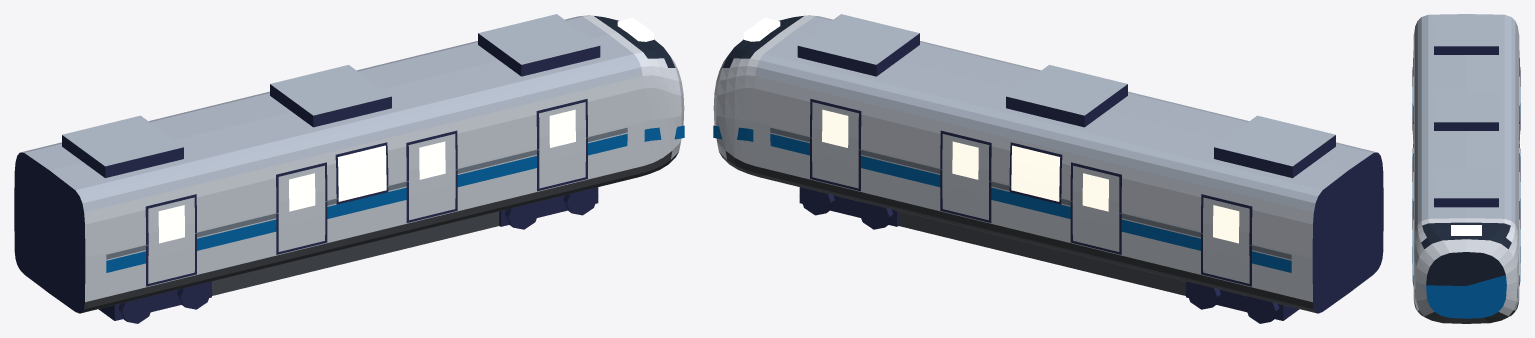
File: taipei-mrt-c381.glb
3 renders of one model, left to right at view 1: azimuth 30°, elevation 25°; view 2: azimuth 150°, elevation 25°; view 3: azimuth 270°, elevation 25°, orthographic. The views are drawn at different scales.
Parts seen in each view (by area): view 1: taipei-mrt-c381_root; view 2: taipei-mrt-c381_root; view 3: taipei-mrt-c381_root.
Part boxes in pixels (x1,y1,x2,y2): taipei-mrt-c381_root: [14, 14, 684, 323]; taipei-mrt-c381_root: [713, 14, 1383, 323]; taipei-mrt-c381_root: [1412, 14, 1520, 323].
Bounding box in the file's own units: 16.2 × 3.98 × 3.36.
Materials: 2 (2 with a texture image).
